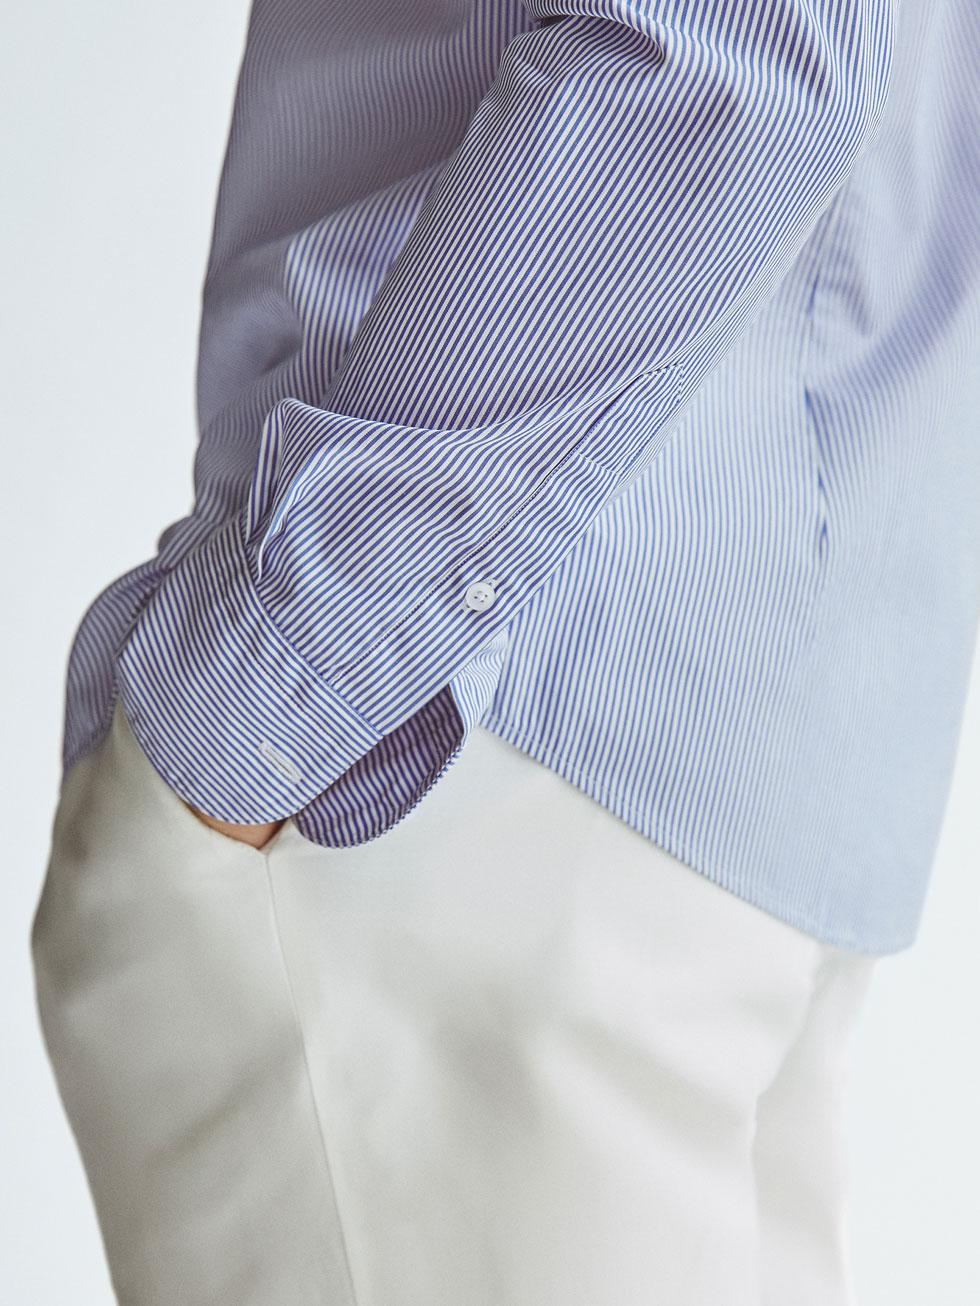teeshirt: (63, 4, 980, 967)
